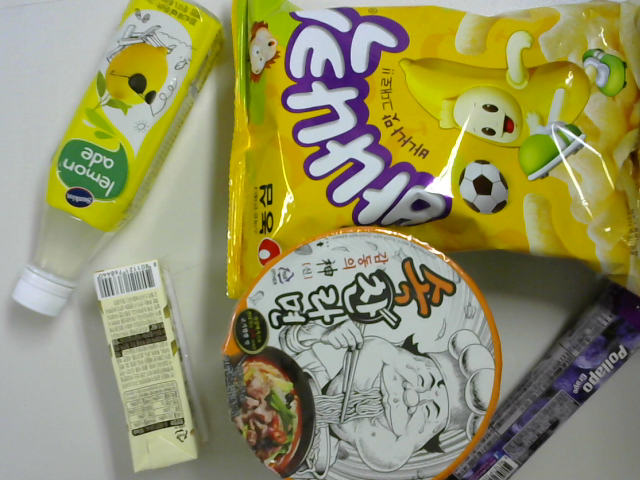99.89_Soymilk: (85, 272, 213, 468)
Banana_Kick: (225, 4, 640, 292)
Hejangchan: (225, 230, 499, 480)
Polapo_Grape: (441, 276, 637, 480)
Sunkist_Lemonaid_Pet: (19, 1, 225, 316)
